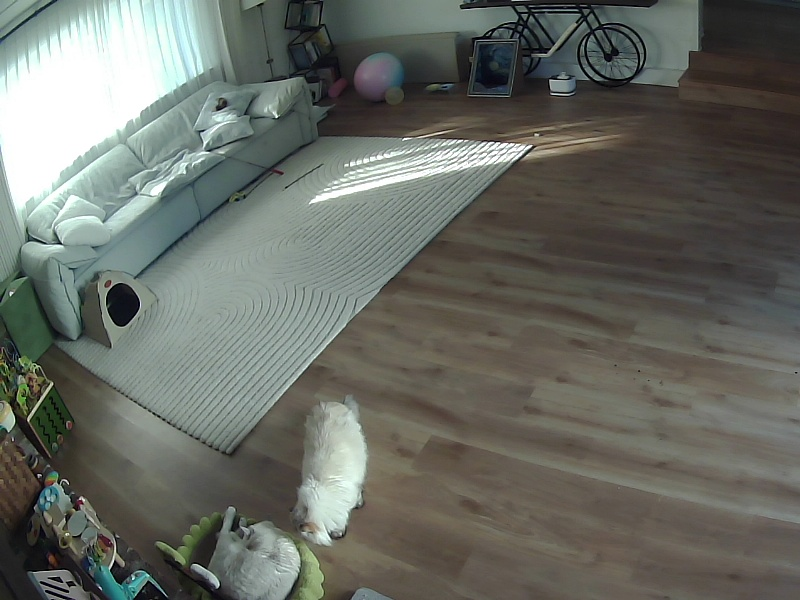Qb-2: (191, 507, 300, 599)
Qbo-2: (292, 395, 367, 545)
